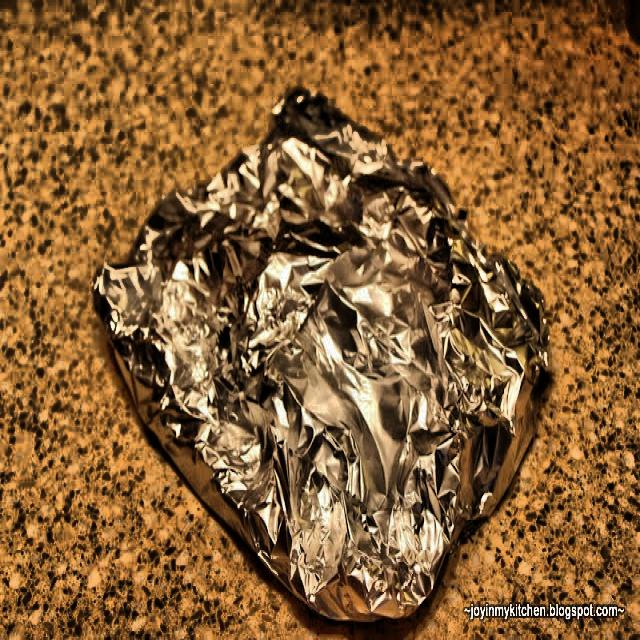Foil: (87, 81, 556, 639)
